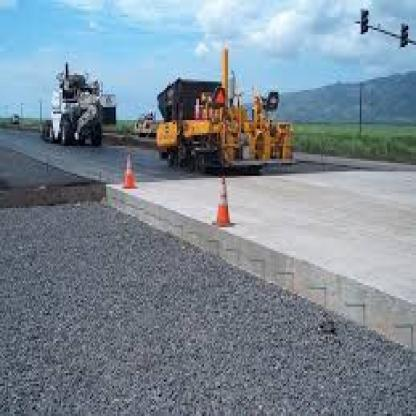car: (140, 35, 305, 170), (41, 57, 125, 152)
